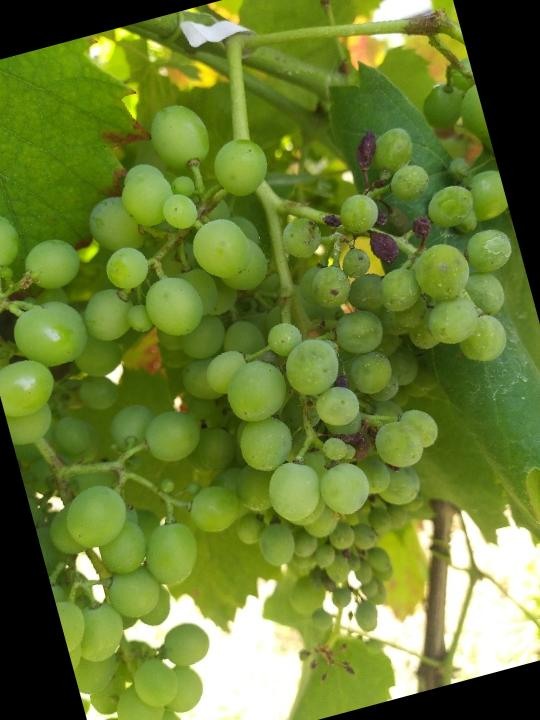grape: (32, 24, 540, 602)
